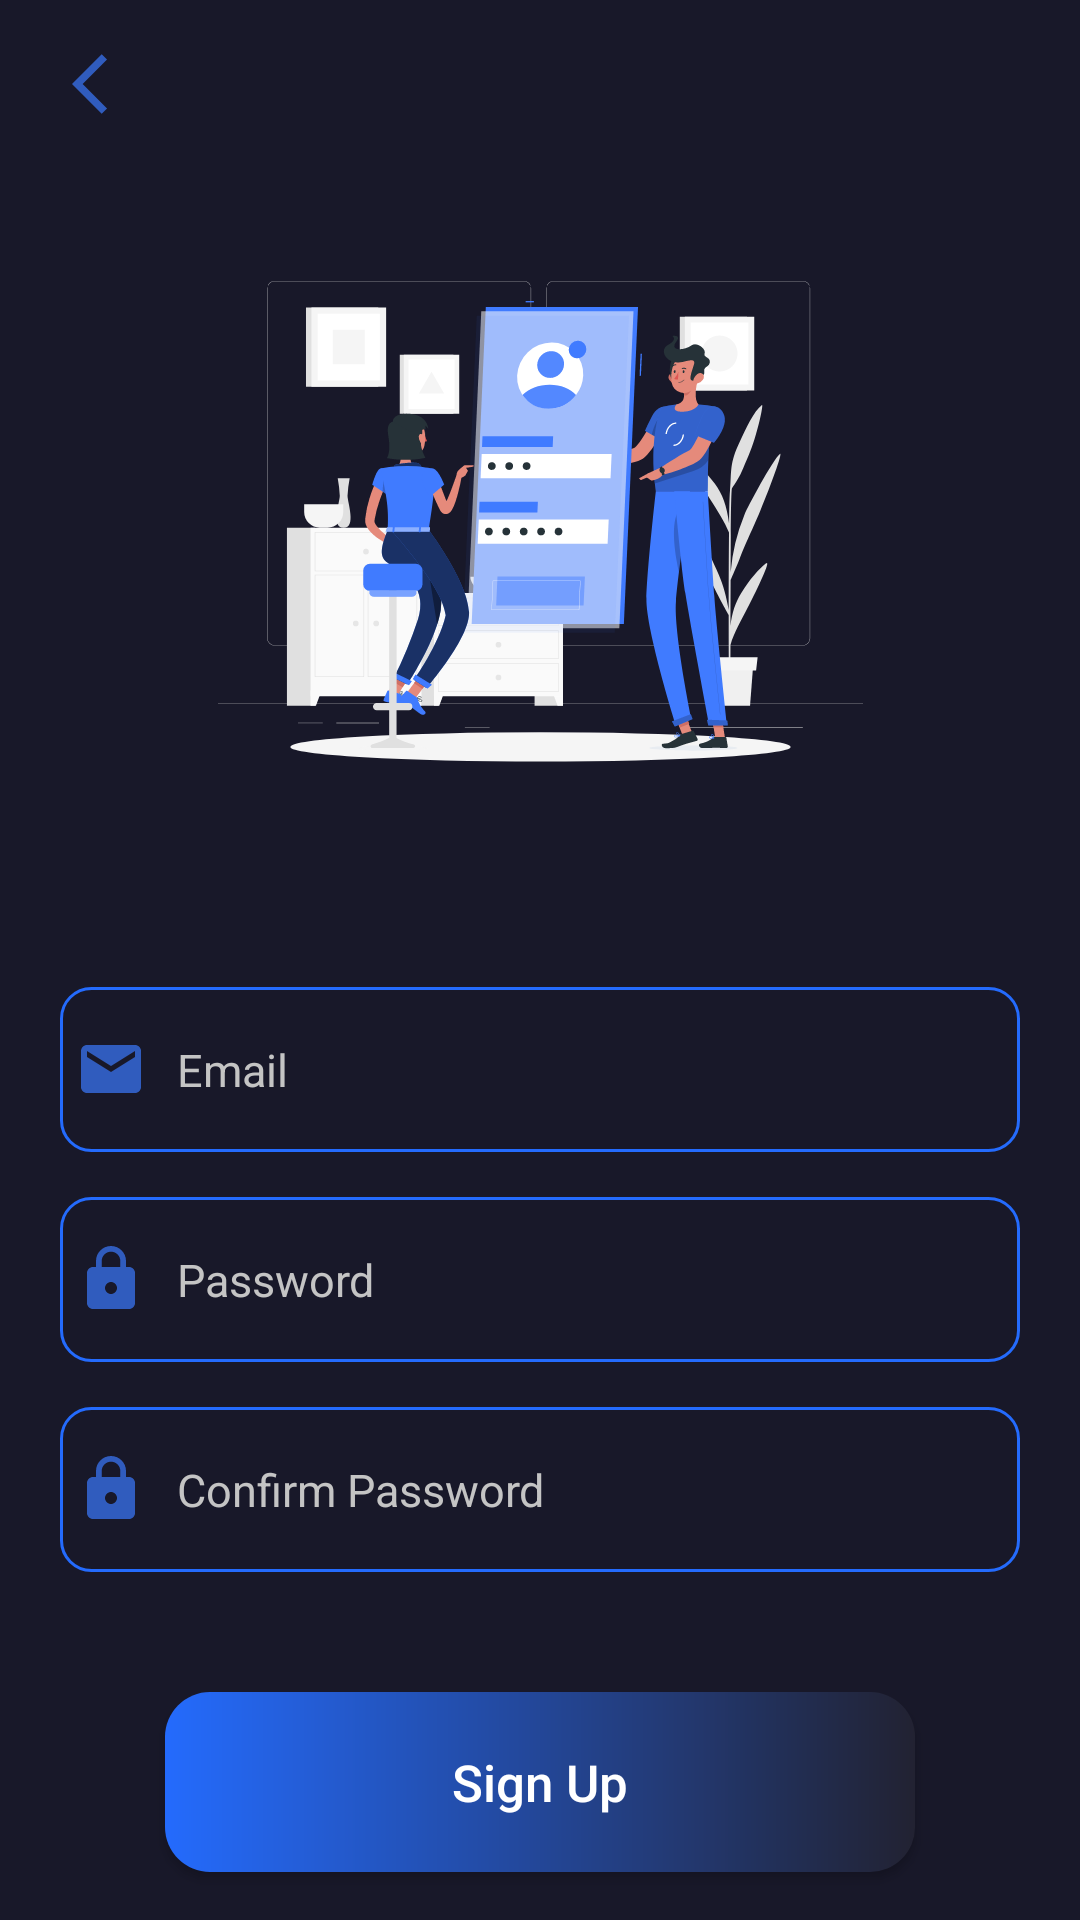

Where icons sit on this 1080px×1920px app screen, as bbox=[x1, y1, x2, y2]:
back: bbox=[72, 54, 107, 114]
